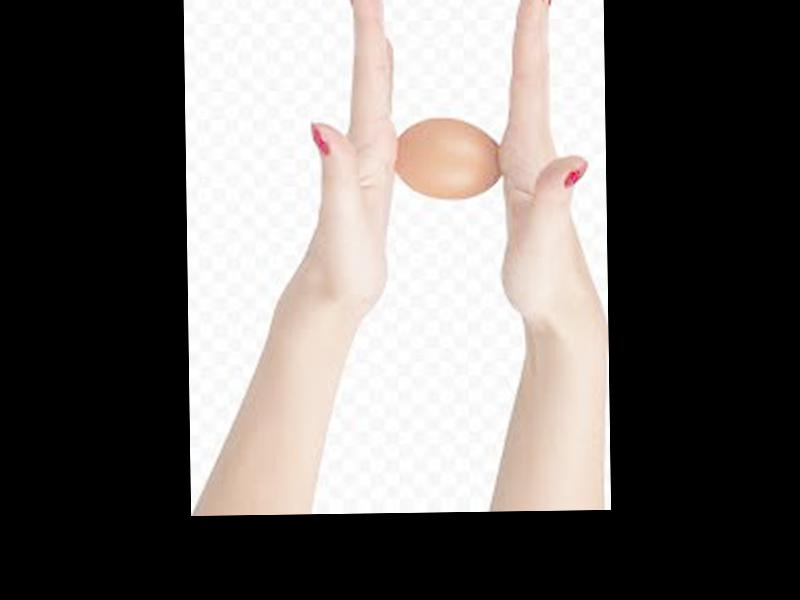Eggs: (393, 120, 500, 200)
